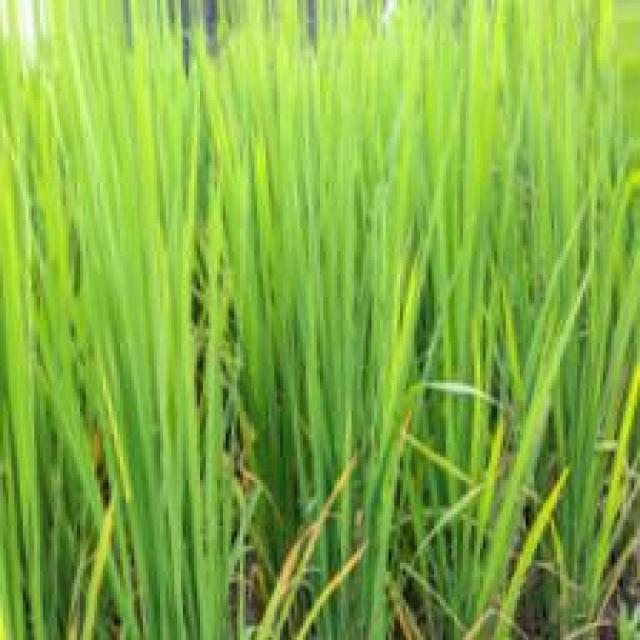HealthyLeaf: (0, 8, 241, 640), (408, 3, 640, 565), (204, 35, 419, 517)
